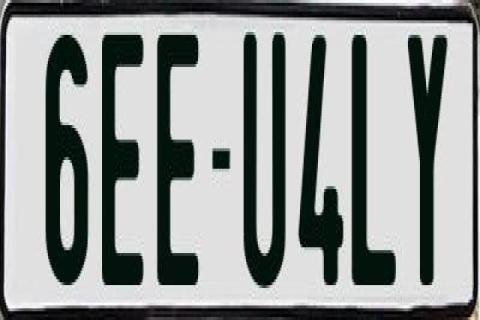0: (299, 35, 351, 294), (46, 29, 94, 285)
E: (99, 29, 143, 291), (156, 26, 198, 288)
L: (350, 29, 398, 294)
U: (242, 27, 292, 286)
Y: (404, 29, 452, 282)
